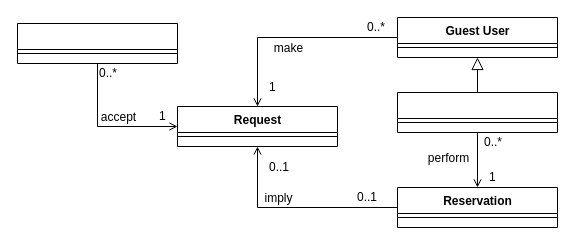
Some shapes in this 575 by 245 pixel diagram are drawn without their labels. The box of each missing label's shape, as (x1, y1, x2, y2) in pixels:
Registered Passenger: (396, 92, 558, 132)
Taxi Driver: (16, 22, 178, 64)
